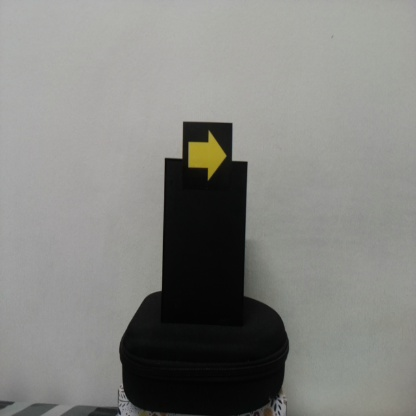id_3: (183, 123, 232, 189)
